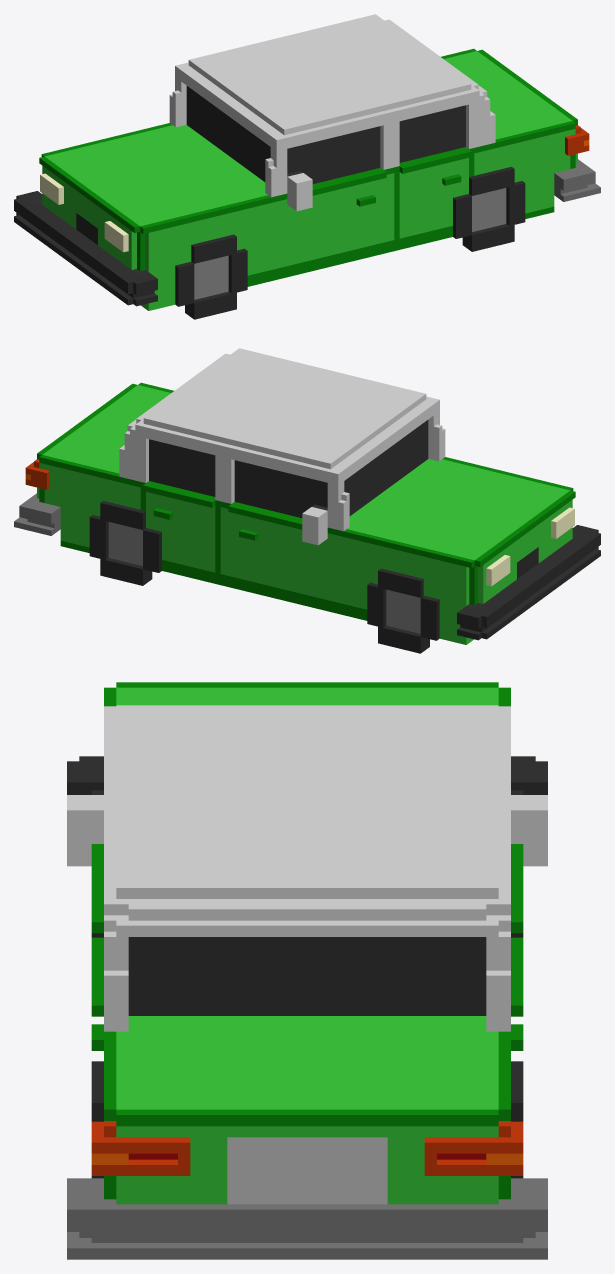
Rendered from car-4.obj.
3 renders of one model, top to bottom at view 1: azimuth 30°, elevation 25°; view 2: azimuth 150°, elevation 25°; view 3: azimuth 270°, elevation 25°, orthographic. The views are drawn at different scales.
Size of the model in its own units: 8.8 by 2.9 by 3.9.
1 material, 1 textured.
